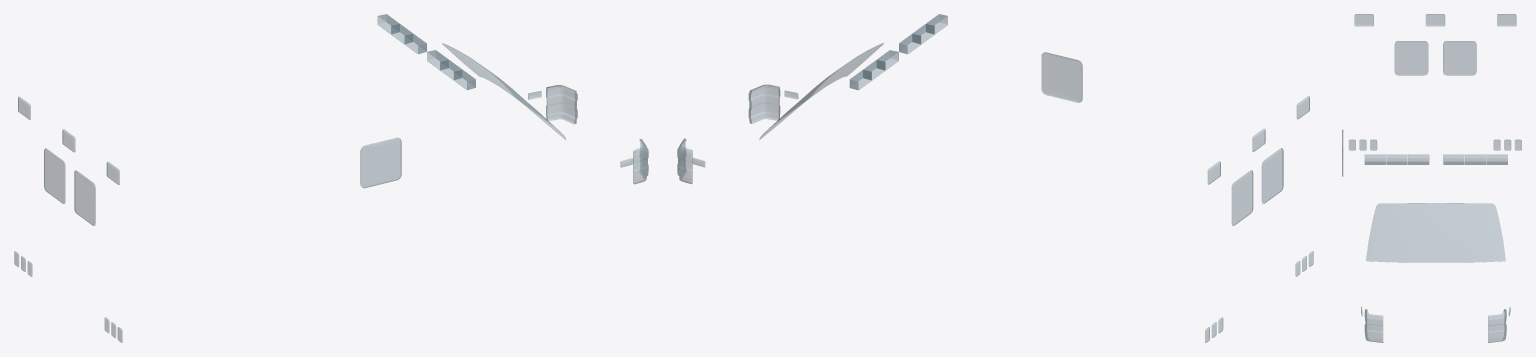
3 renders of one model, left to right at view 1: azimuth 30°, elevation 25°; view 2: azimuth 150°, elevation 25°; view 3: azimuth 270°, elevation 25°, orthographic. The views are drawn at different scales.
Parts seen in each view (by area): view 1: SM_Ambulance_Glass_Ext1; view 2: SM_Ambulance_Glass_Ext1; view 3: SM_Ambulance_Glass_Ext1.
Part boxes in pixels (x1=…): SM_Ambulance_Glass_Ext1: x1=14, y1=14, x2=648, y2=342; SM_Ambulance_Glass_Ext1: x1=677, y1=14, x2=1313, y2=342; SM_Ambulance_Glass_Ext1: x1=1342, y1=14, x2=1521, y2=342.
Size of the model in its own units: 6 by 1.8 by 2.15.
